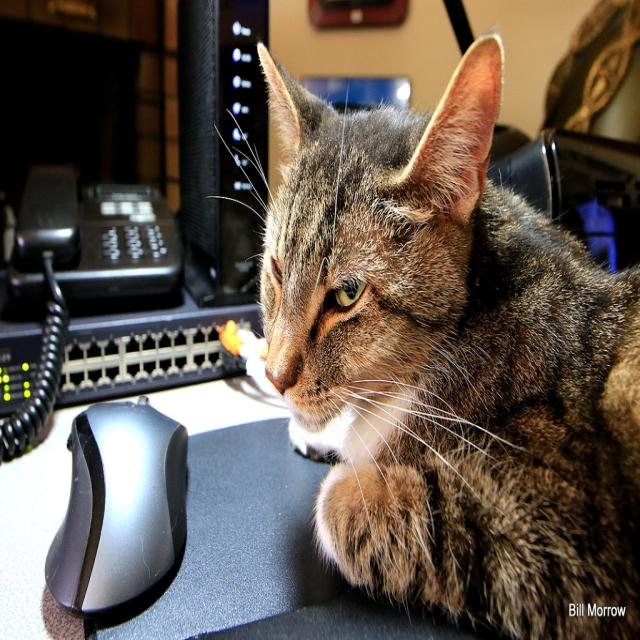Cat: (205, 28, 639, 638)
